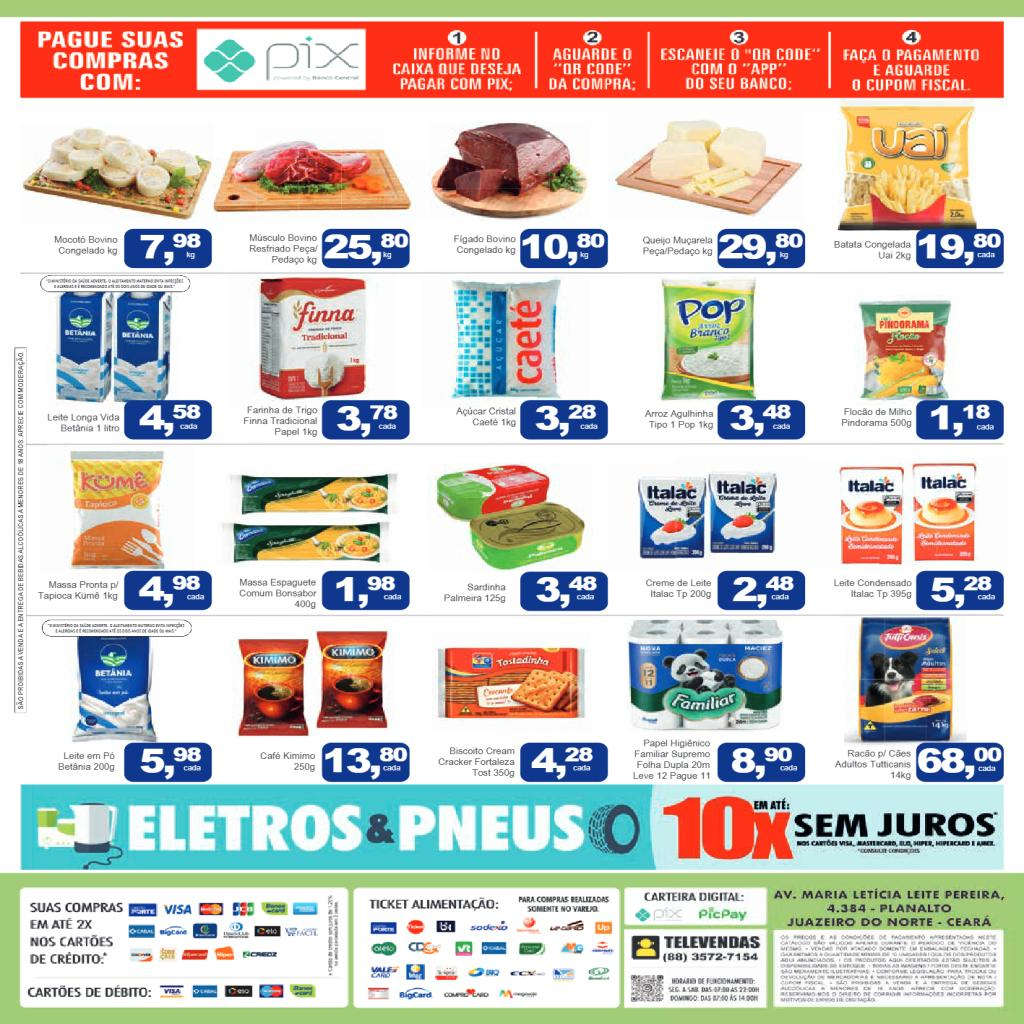price: (918, 232, 1002, 268), (323, 232, 409, 267), (323, 745, 409, 780), (718, 232, 803, 267), (522, 232, 604, 268), (918, 746, 1002, 781), (731, 745, 801, 781), (929, 574, 1000, 609), (136, 574, 207, 609), (928, 402, 997, 438), (333, 574, 404, 608), (137, 402, 204, 438), (531, 574, 598, 610), (137, 746, 207, 780), (728, 404, 797, 438), (334, 402, 399, 438), (534, 403, 601, 437), (137, 232, 203, 266), (730, 576, 796, 610), (530, 746, 596, 780)
product_text: (630, 735, 714, 782), (435, 742, 517, 781), (235, 576, 318, 611), (832, 746, 913, 781), (239, 404, 319, 439), (247, 230, 320, 268), (37, 577, 121, 604), (636, 232, 715, 260), (829, 575, 914, 601), (832, 238, 914, 264), (836, 404, 913, 431), (442, 578, 510, 607), (51, 232, 121, 260), (46, 410, 120, 436), (644, 406, 716, 432), (254, 747, 318, 776), (451, 231, 517, 259), (453, 404, 517, 432), (644, 576, 712, 602), (53, 749, 118, 775)
